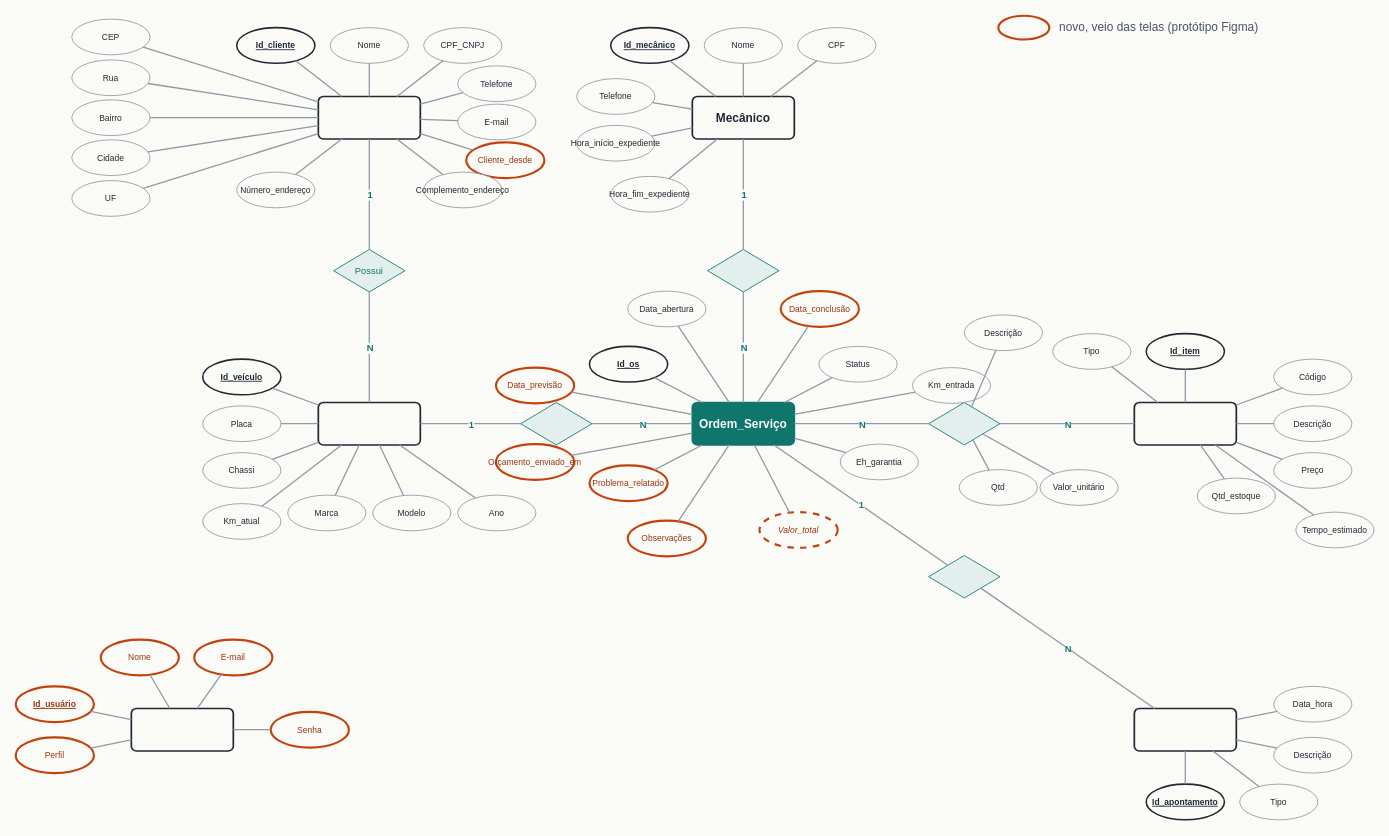
This 1389x836 diagram has some shape labels left out. Here are the shapes that lost their labels. From the top down, the centre of each, then its label:
At (369,117): "Cliente".
At (743,270): "Executa".
At (369,423): "Veículo".
At (556,423): "Recebe".
At (964,423): "Utiliza".
At (1185,423): "Item".
At (964,576): "Registra".
At (182,729): "Usuário".
At (1185,729): "Apontamento".
